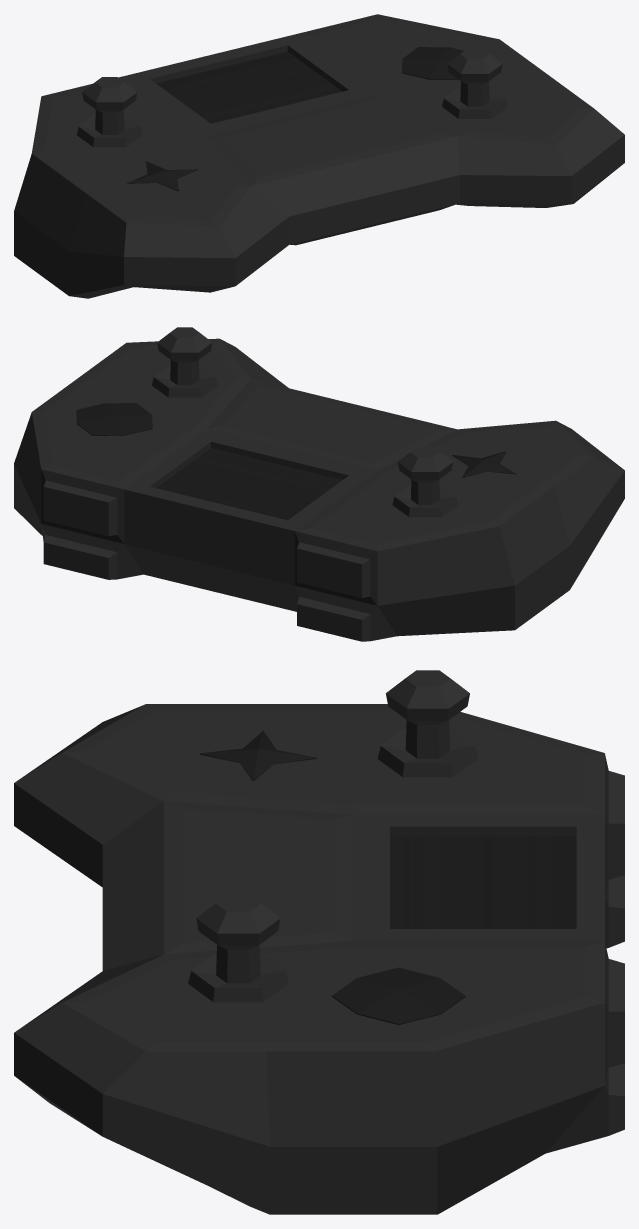
The model's file is JoystickV2.fbx.
3 renders of one model, top to bottom at view 1: azimuth 30°, elevation 25°; view 2: azimuth 150°, elevation 25°; view 3: azimuth 270°, elevation 25°, orthographic. The views are drawn at different scales.
Parts seen in each view (by area): view 1: JoystickV2; view 2: JoystickV2; view 3: JoystickV2.
Part boxes in pixels (x1=…): JoystickV2: x1=14, y1=14, x2=624, y2=298; JoystickV2: x1=14, y1=327, x2=624, y2=641; JoystickV2: x1=14, y1=670, x2=624, y2=1214.
Size of the model in its own units: 23.96 by 7.05 by 16.64.
